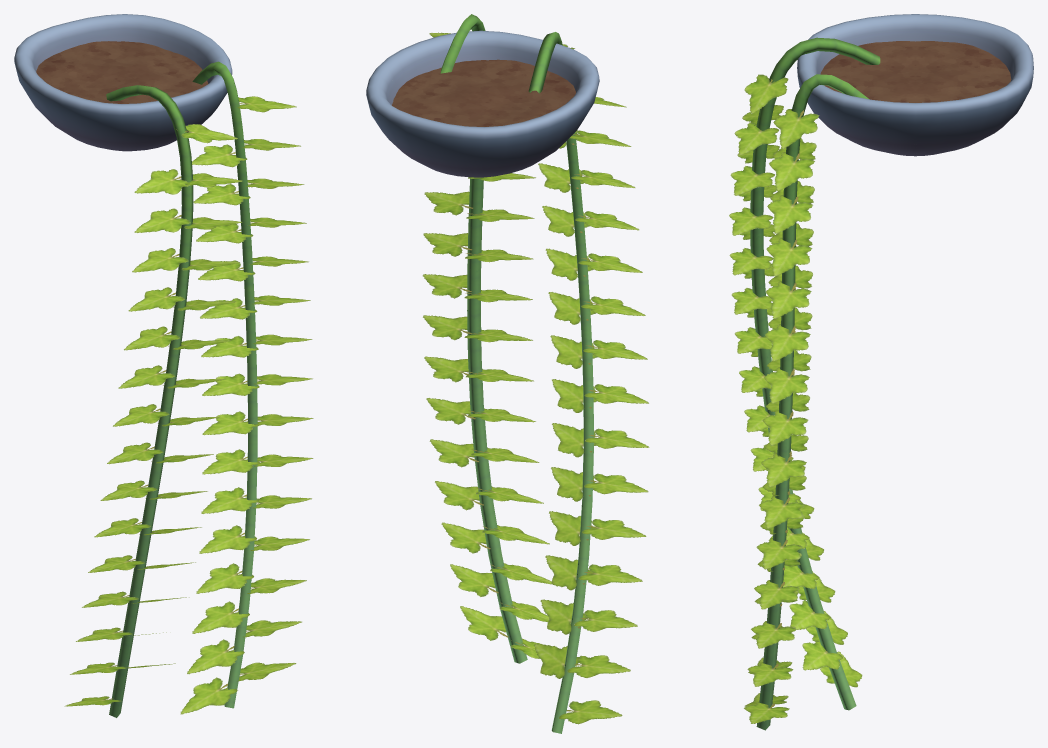
File: SM_Wallplant.fbx
3 views of the same model, side by side, from view 1: azimuth 30°, elevation 25°; view 2: azimuth 150°, elevation 25°; view 3: azimuth 270°, elevation 25° (orthographic). The views are drawn at different scales.
Parts seen in each view (by area): view 1: SM_Wallplant, SM_Wallplant.001; view 2: SM_Wallplant, SM_Wallplant.001; view 3: SM_Wallplant, SM_Wallplant.001.
Boxes of the visible parts, x1=… form: SM_Wallplant: x1=14, y1=14, x2=257, y2=717; SM_Wallplant.001: x1=64, y1=96, x2=313, y2=714; SM_Wallplant: x1=366, y1=14, x2=599, y2=733; SM_Wallplant.001: x1=422, y1=32, x2=649, y2=724; SM_Wallplant: x1=750, y1=14, x2=1033, y2=730; SM_Wallplant.001: x1=729, y1=74, x2=862, y2=723.
Size of the model in its own units: 94.93 by 223 by 97.18.
